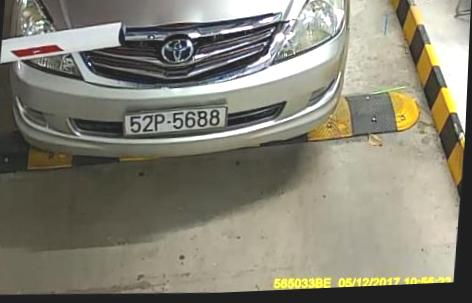License_Plate: (121, 105, 235, 141)
